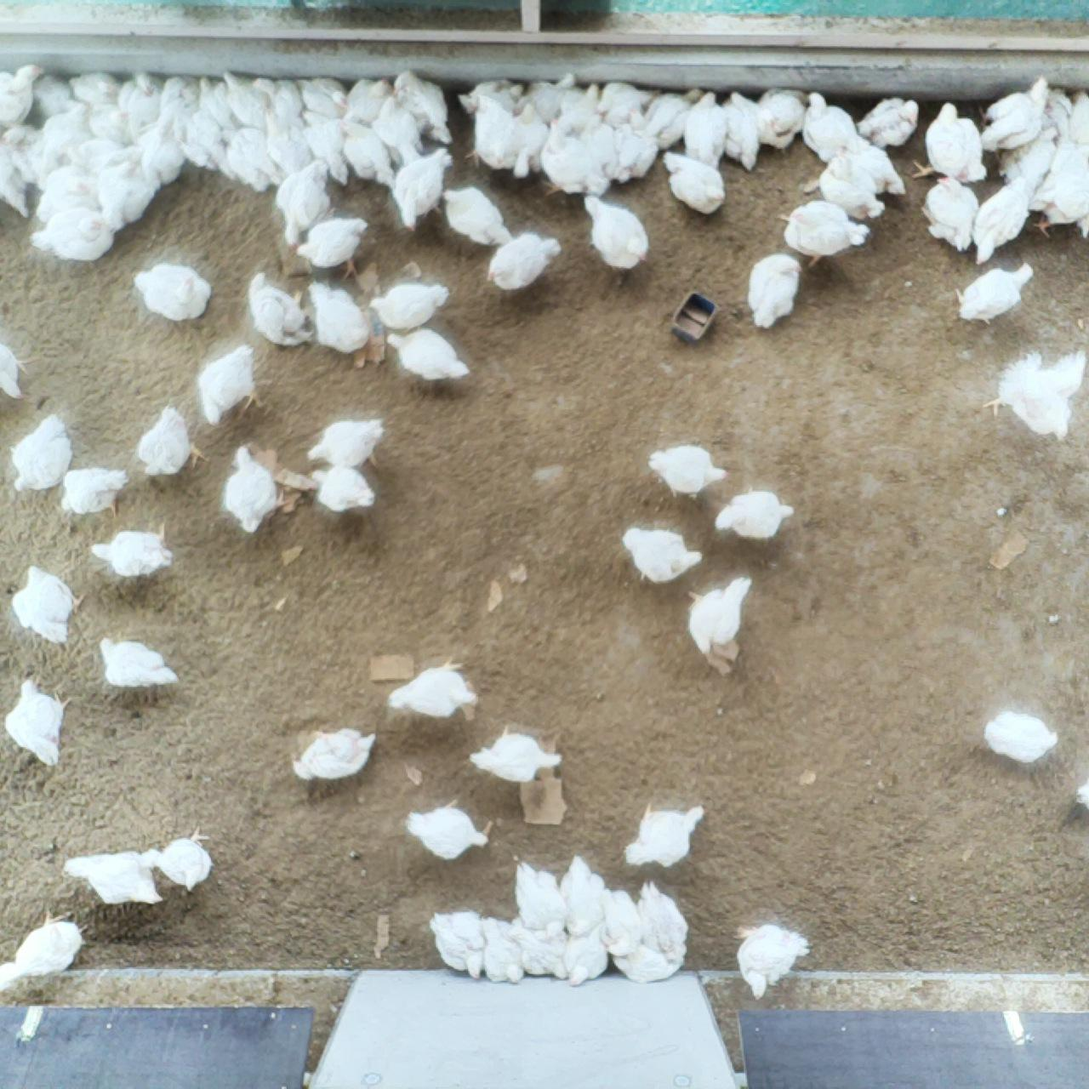chicken: (985, 347, 1088, 445), (219, 442, 301, 535), (0, 906, 86, 991), (5, 676, 76, 769), (915, 96, 990, 184), (734, 921, 813, 1003), (776, 199, 870, 267), (12, 564, 89, 644), (390, 142, 457, 232), (387, 659, 481, 722), (196, 342, 267, 425), (96, 158, 173, 234), (390, 64, 457, 148), (582, 191, 651, 272), (274, 160, 334, 253), (976, 173, 1037, 262), (472, 723, 564, 782), (403, 799, 493, 859), (622, 804, 706, 868), (952, 262, 1036, 326), (540, 118, 607, 198), (66, 851, 164, 905), (688, 576, 754, 656), (815, 149, 887, 222), (134, 405, 208, 475), (246, 271, 314, 347), (31, 204, 117, 264), (11, 411, 74, 492), (295, 213, 372, 279), (921, 171, 983, 252), (90, 520, 175, 579), (132, 263, 215, 323), (38, 154, 111, 221), (440, 183, 516, 246), (340, 115, 403, 191), (800, 90, 866, 162), (621, 525, 704, 582), (388, 326, 473, 381), (679, 87, 734, 172), (487, 230, 564, 290), (309, 282, 373, 354), (147, 825, 214, 892), (215, 125, 281, 193), (373, 91, 432, 167), (985, 709, 1061, 767), (495, 103, 553, 179), (96, 637, 182, 688), (981, 78, 1049, 142), (293, 730, 378, 781), (555, 852, 609, 932), (303, 417, 386, 469), (640, 77, 702, 145), (303, 103, 352, 188), (649, 445, 730, 496), (664, 151, 728, 215), (469, 94, 520, 174), (844, 133, 909, 195), (513, 859, 567, 932), (57, 465, 130, 519), (717, 490, 797, 539), (576, 117, 632, 186), (1039, 166, 1089, 243), (751, 254, 802, 329), (371, 283, 452, 330), (430, 909, 485, 978), (638, 881, 689, 955), (719, 90, 766, 170), (0, 127, 43, 214), (604, 944, 689, 988), (308, 460, 377, 514), (852, 95, 923, 147), (607, 119, 665, 182), (143, 121, 198, 187), (562, 923, 616, 990), (343, 60, 396, 128), (516, 64, 579, 121), (179, 111, 231, 180), (41, 90, 95, 156), (510, 927, 572, 983), (754, 87, 810, 149), (1044, 81, 1089, 157), (598, 886, 645, 956), (249, 68, 308, 123), (295, 69, 353, 123), (217, 67, 268, 128), (456, 71, 537, 109), (150, 64, 201, 124), (0, 338, 44, 406), (0, 60, 44, 128), (481, 917, 527, 982), (268, 116, 312, 182), (597, 72, 657, 120), (32, 74, 87, 121), (194, 72, 240, 127), (123, 70, 165, 130), (560, 83, 609, 132), (68, 64, 121, 104), (1077, 776, 1089, 811)
